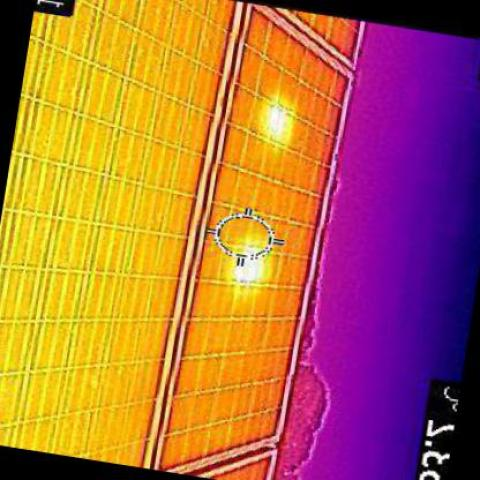fault: (238, 248, 259, 279), (266, 106, 288, 135)
